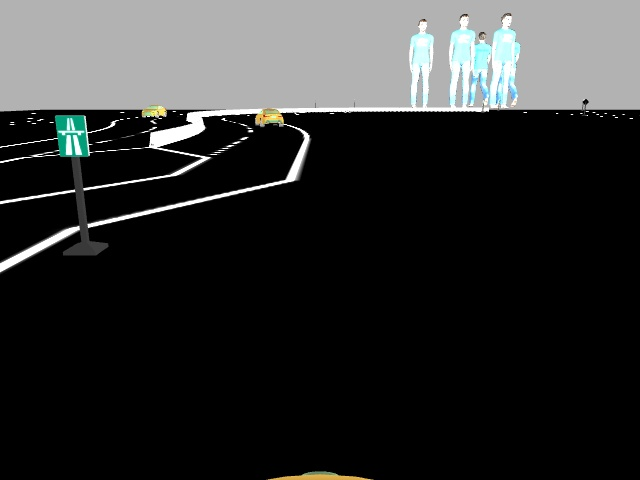HighwayEntrance: (51, 112, 92, 157)
